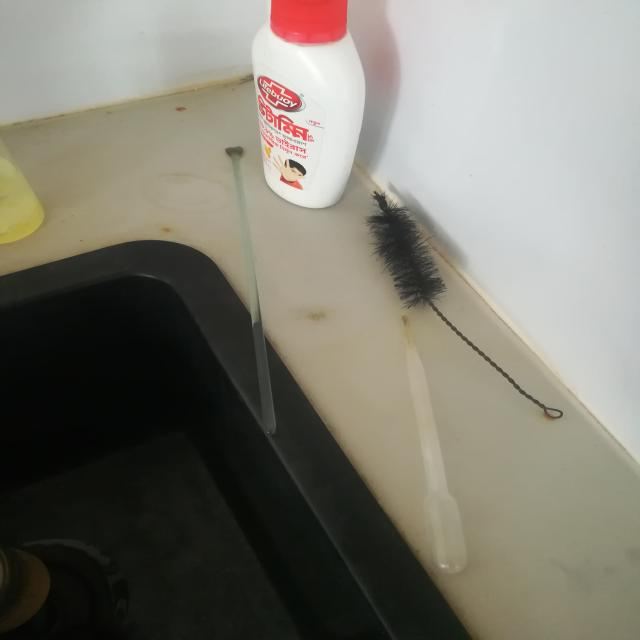Glass_Rod: (186, 137, 312, 447)
Pipette: (383, 276, 518, 608)
